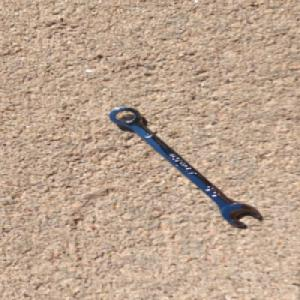Wrench: (107, 105, 263, 227)
